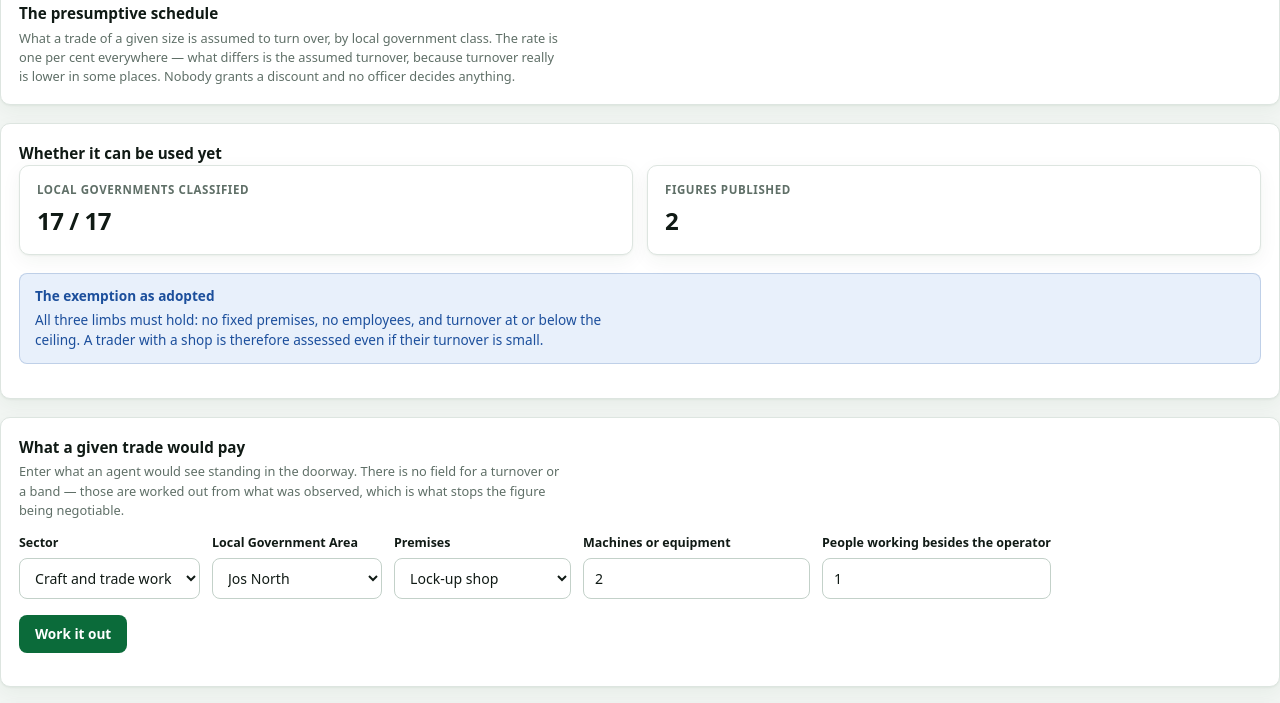
Test: working out one trade › says exempt rather than showing a bill of nothing
Click the button "Work it out" at (73, 634), box 19,615 -> 127,653
(page scrolled)
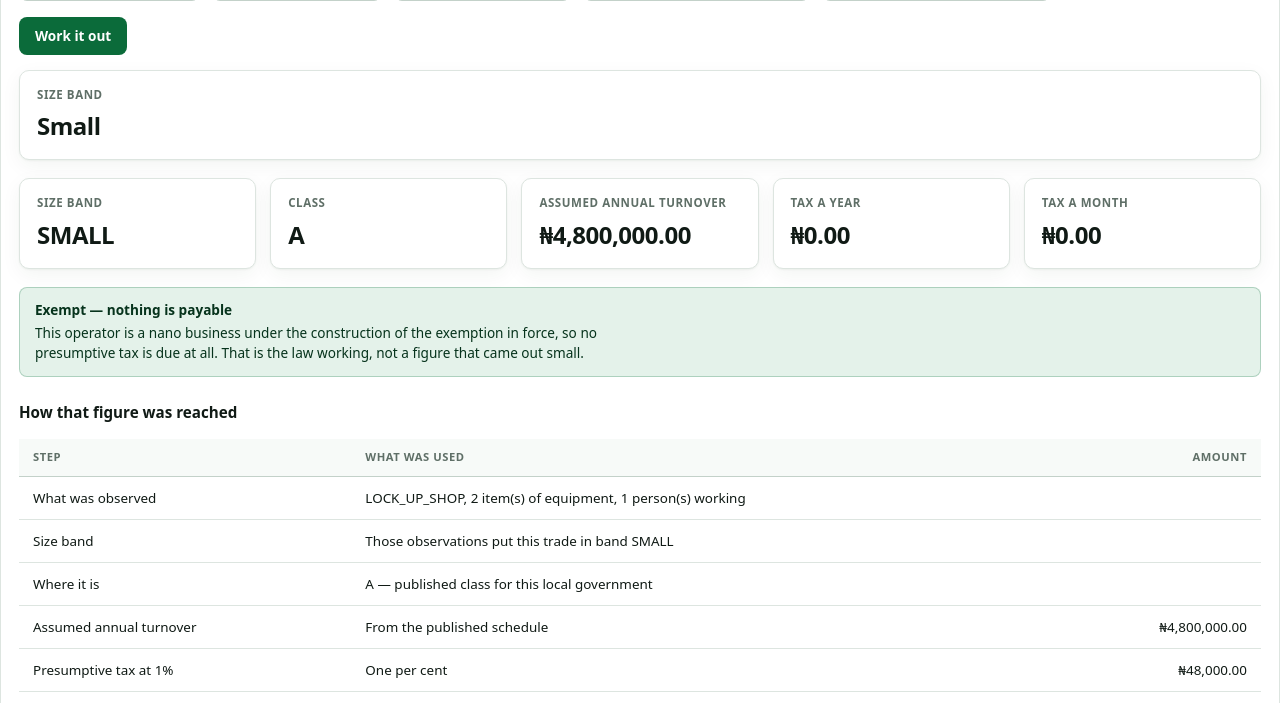
Check: the text "Exempt — nothing is payable" is shown, box 35,300 -> 232,319
Check: the text "That is the law working, not a figure that came out small" is shown, box 35,323 -> 597,362
